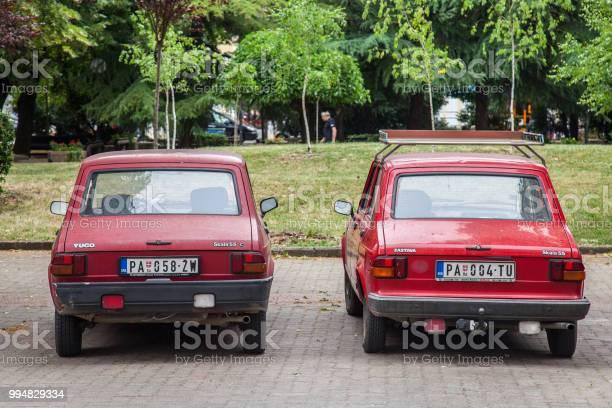license-plates: (438, 261, 516, 281), (120, 257, 199, 276)
